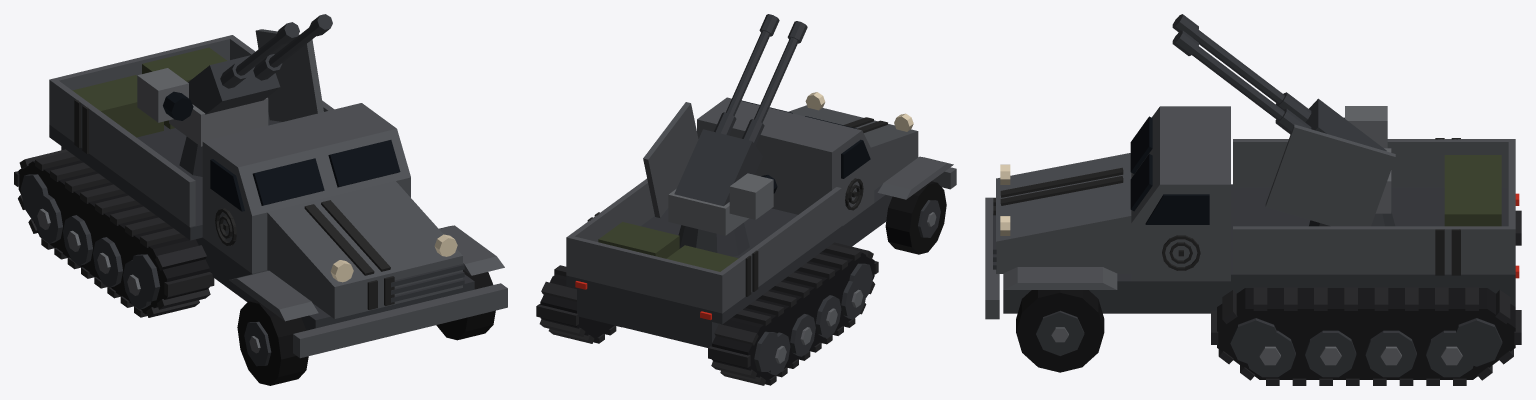
3 views of the same model, side by side, from view 1: azimuth 30°, elevation 25°; view 2: azimuth 150°, elevation 25°; view 3: azimuth 270°, elevation 25° (orthographic). The views are drawn at different scales.
Visible parts, largest first — view 1: body, top; view 2: body, top; view 3: body, top.
Part boxes in pixels (<box>): body: <box>14,35,507,385</box>; top: <box>137,14,332,176</box>; body: <box>536,92,956,385</box>; top: <box>643,14,807,256</box>; body: <box>985,106,1521,385</box>; top: <box>1172,14,1395,226</box>.
Bounding box in the file's own units: 4.26 × 4.67 × 7.53.
